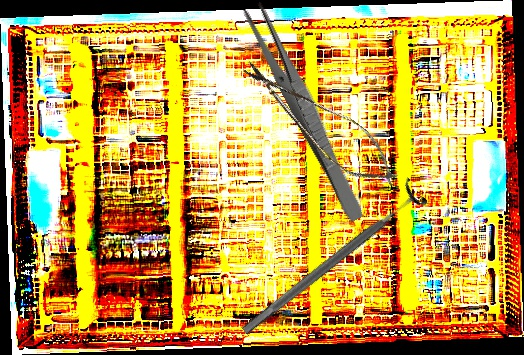Dressing Forceps: (240, 0, 372, 224)
Fixation Ring: (232, 176, 430, 345)
Micro Scissor: (231, 49, 409, 199)
